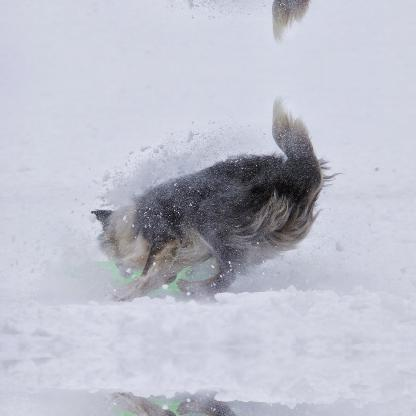Dog: (91, 92, 341, 300), (91, 0, 342, 47)
